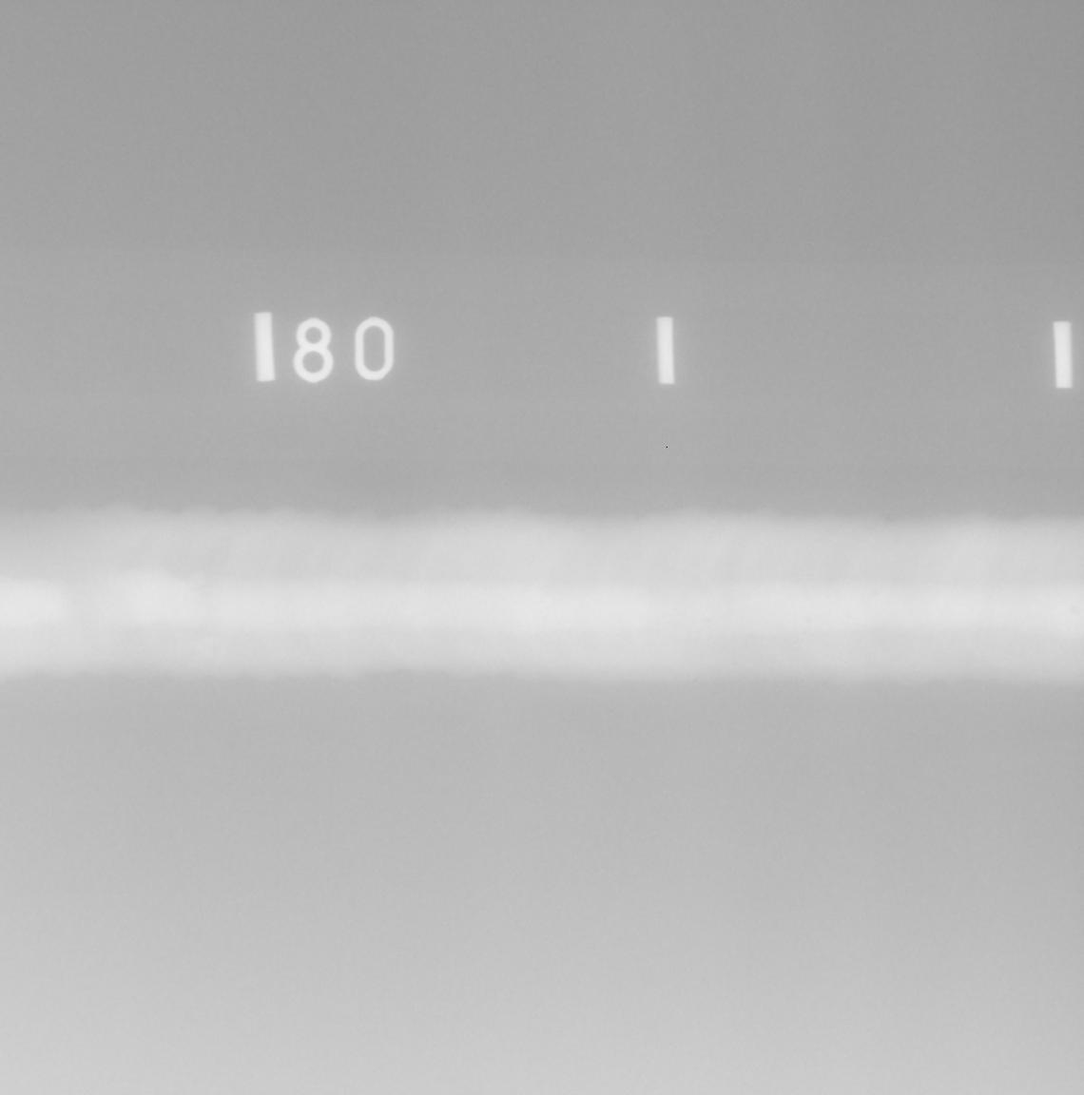Inclusion: (793, 637, 803, 645), (805, 616, 812, 624), (871, 591, 879, 597), (707, 617, 714, 622)
Pore/Porosity: (1067, 604, 1079, 615)
